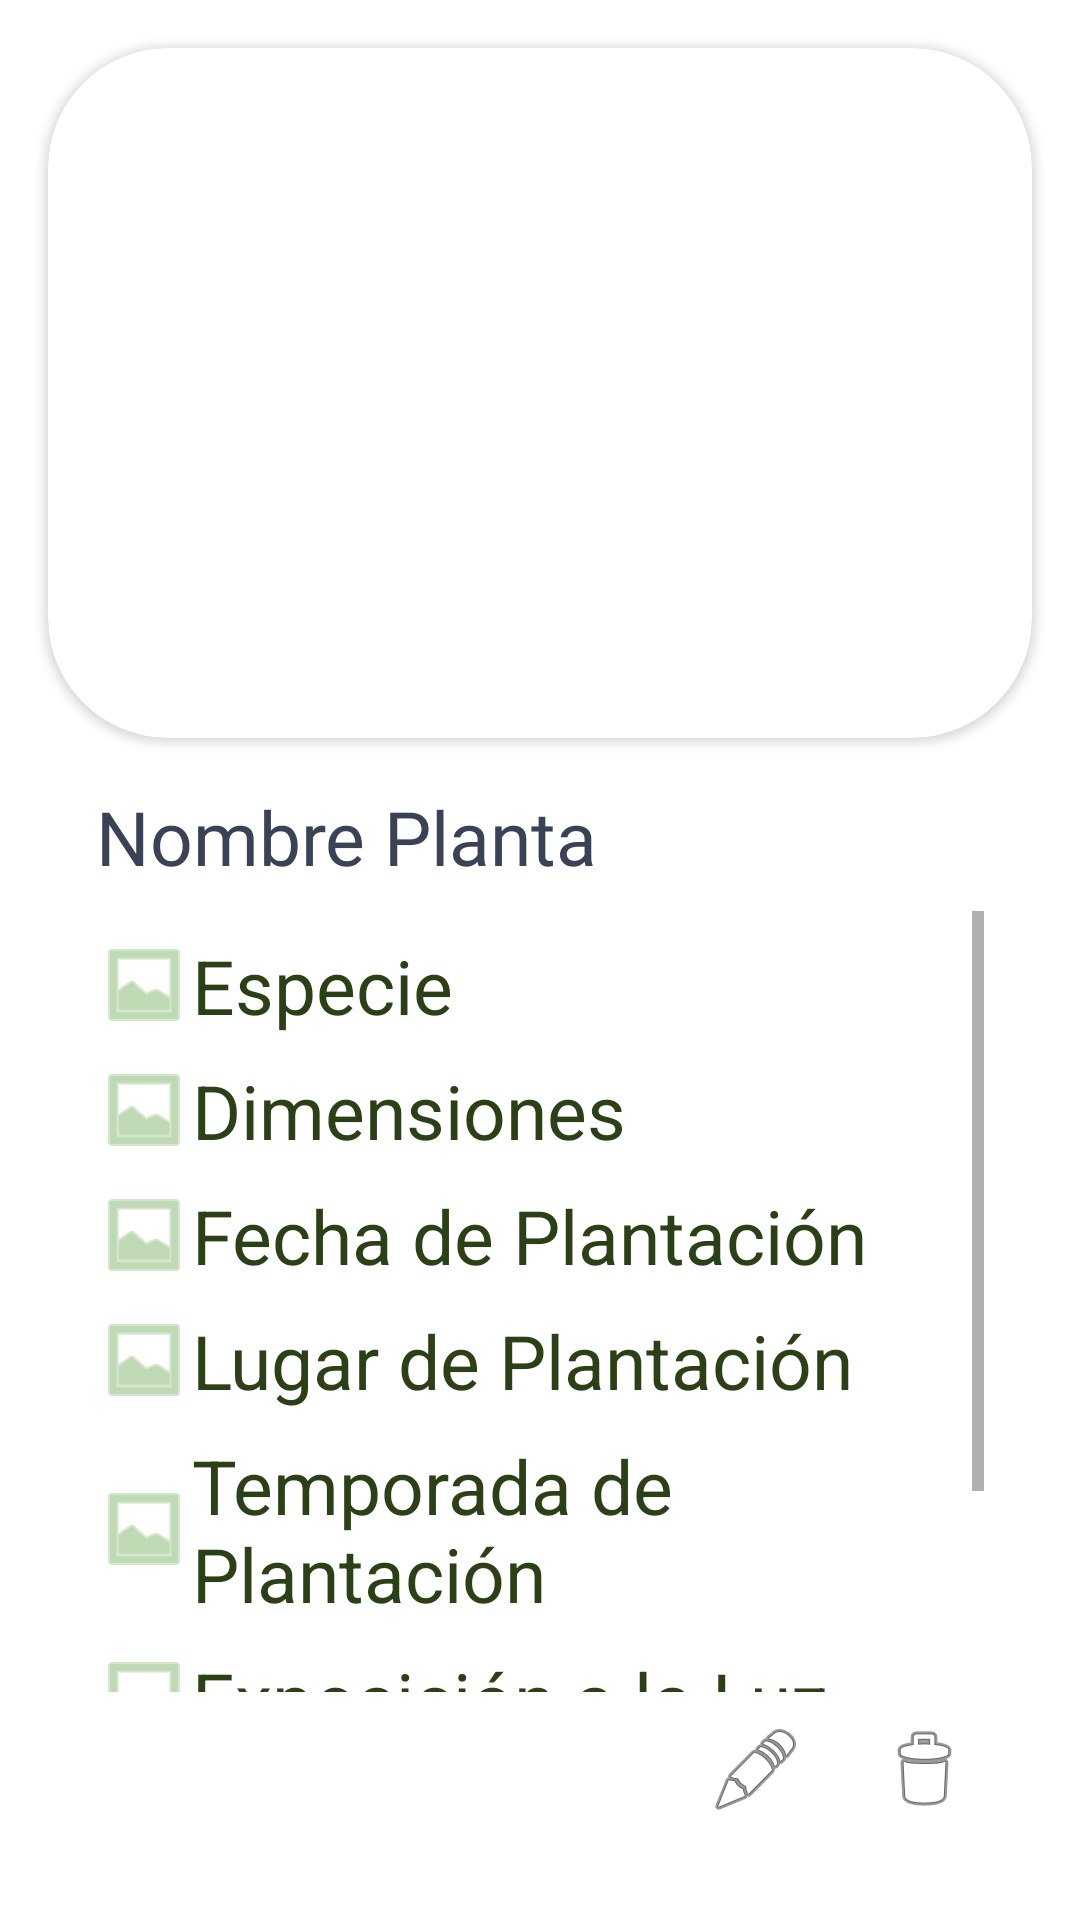

Icon bounding boxes for this 1080×1920 phone screenshot, format (x1, y1, x2, y2):
delete: (897, 1731, 952, 1806)
edit: (715, 1729, 796, 1810)
